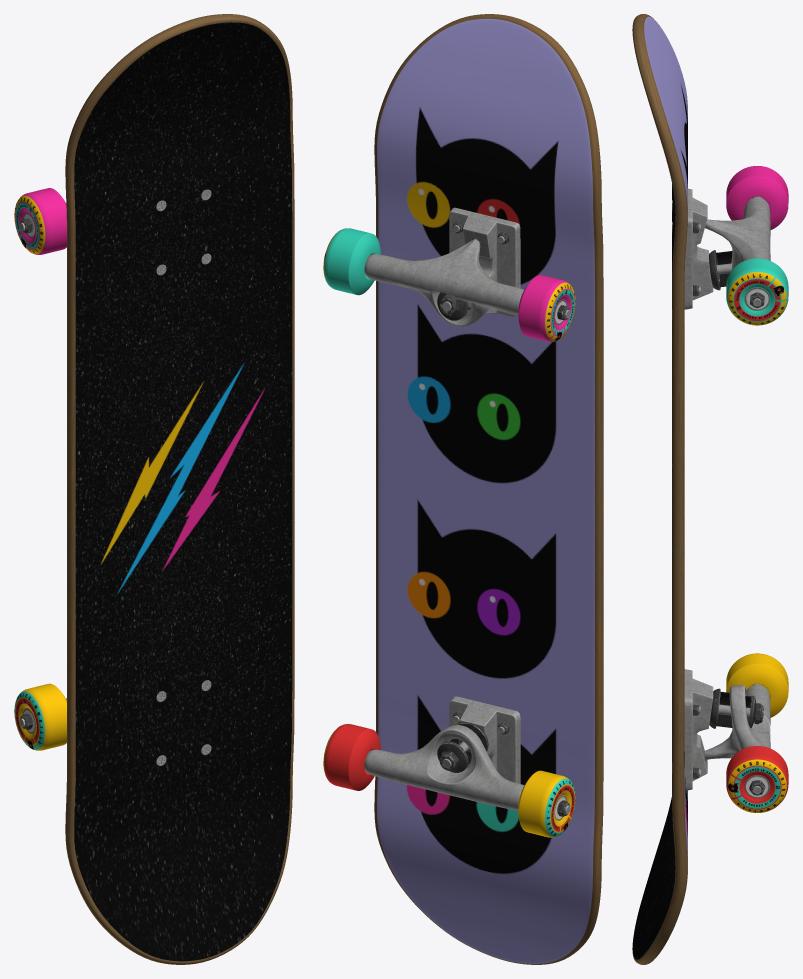
Rendered from wordupson.glb.
3 renders of one model, left to right at view 1: azimuth 30°, elevation 25°; view 2: azimuth 150°, elevation 25°; view 3: azimuth 270°, elevation 25°, orthographic.
Parts seen in each view (by area): view 1: Wordy; view 2: Wordy; view 3: Wordy.
Boxes of the visible parts, left/top/right/bottom form: Wordy: left=14, top=14, right=294, bottom=964; Wordy: left=323, top=14, right=603, bottom=964; Wordy: left=632, top=14, right=788, bottom=964.
Bounding box in the file's own units: 1.01 × 3.83 × 0.5841.
Materials: 6 (6 with a texture image).
